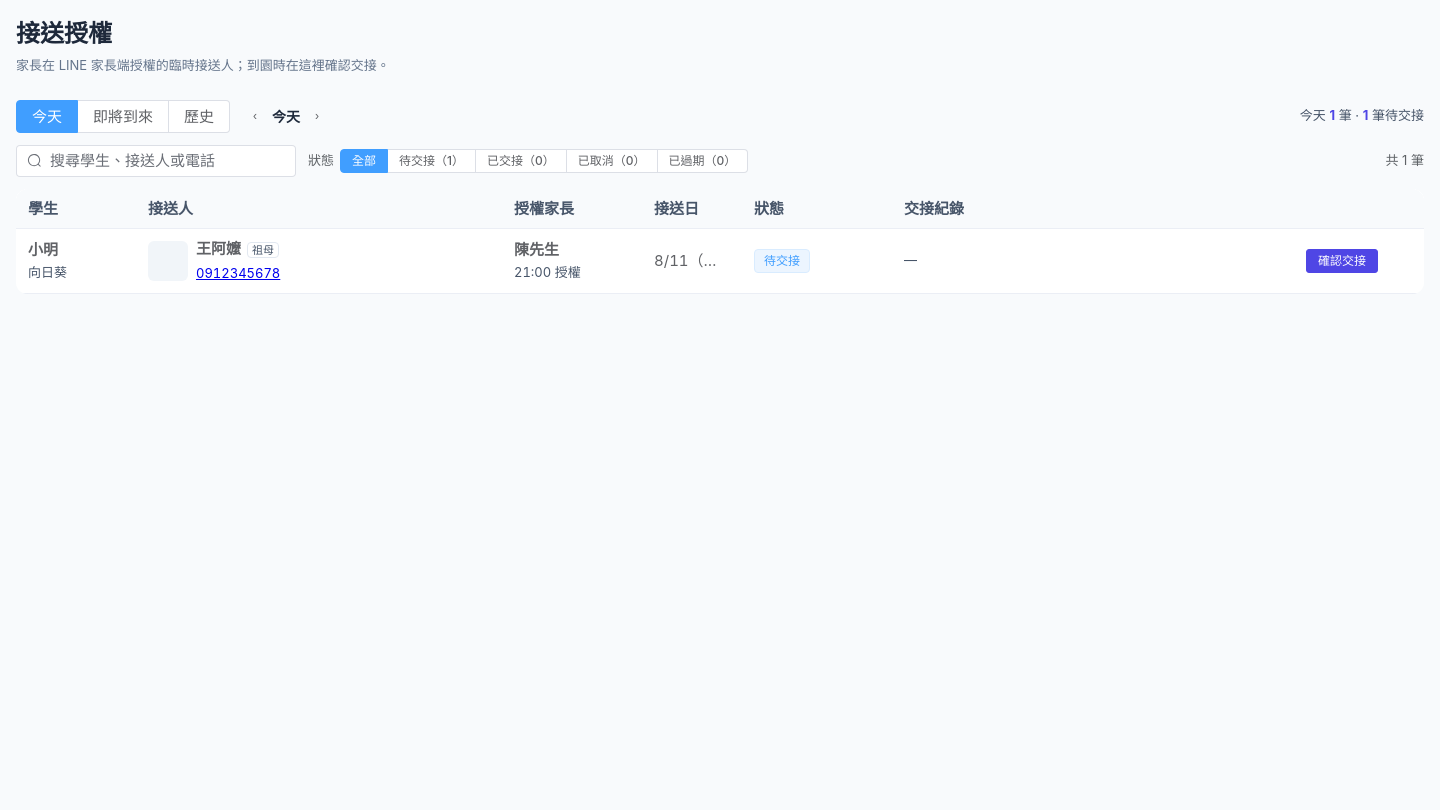
Test: PickupAuthorizationsView (admin) › 錯碼時顯示還可再試次數，不必等重新整理
Click the button "確認交接": (1342, 261) [1306, 249, 1378, 273]
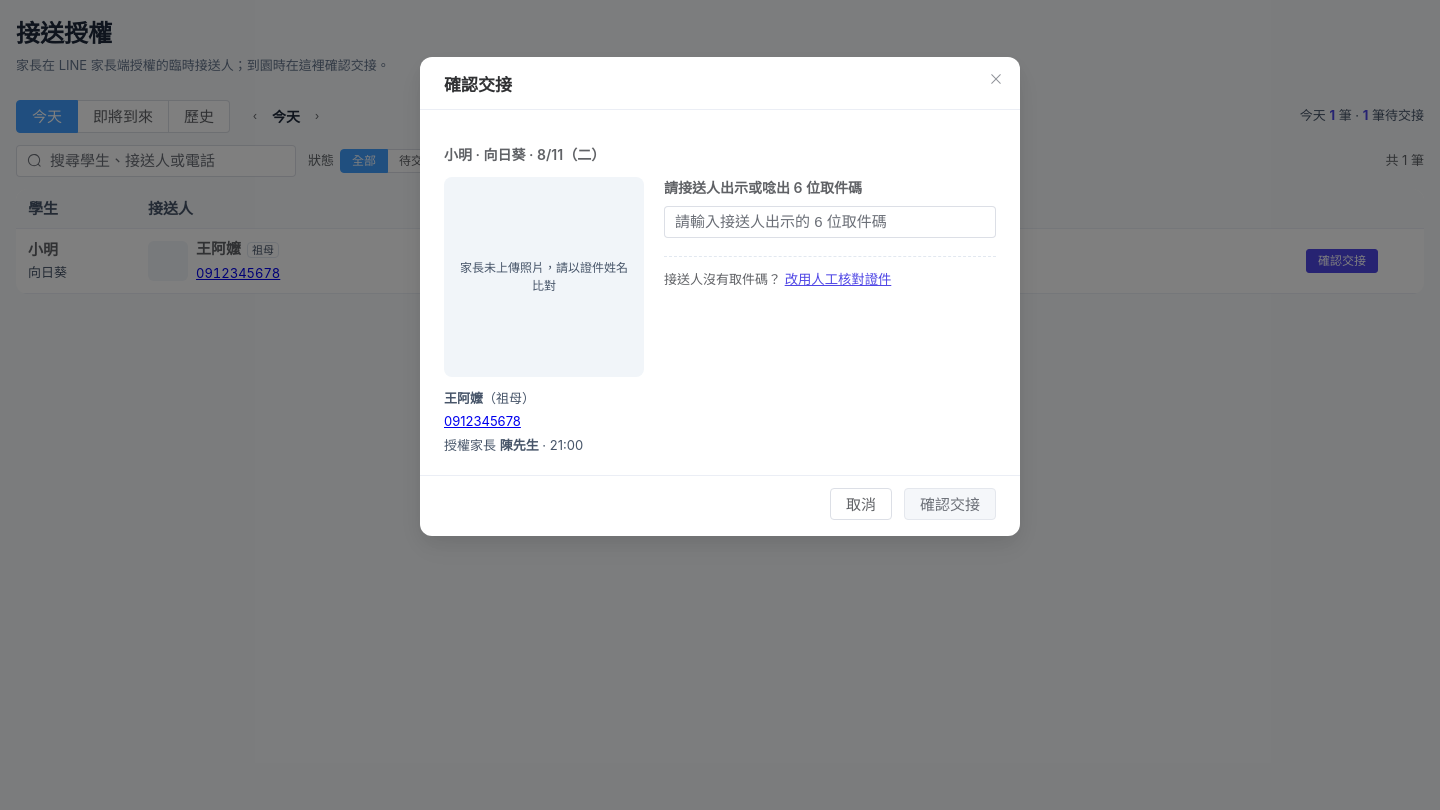
In the field with placeholder "請輸入接送人出示的 6 位取件碼": (830, 222) [675, 207, 985, 237], type "000000"
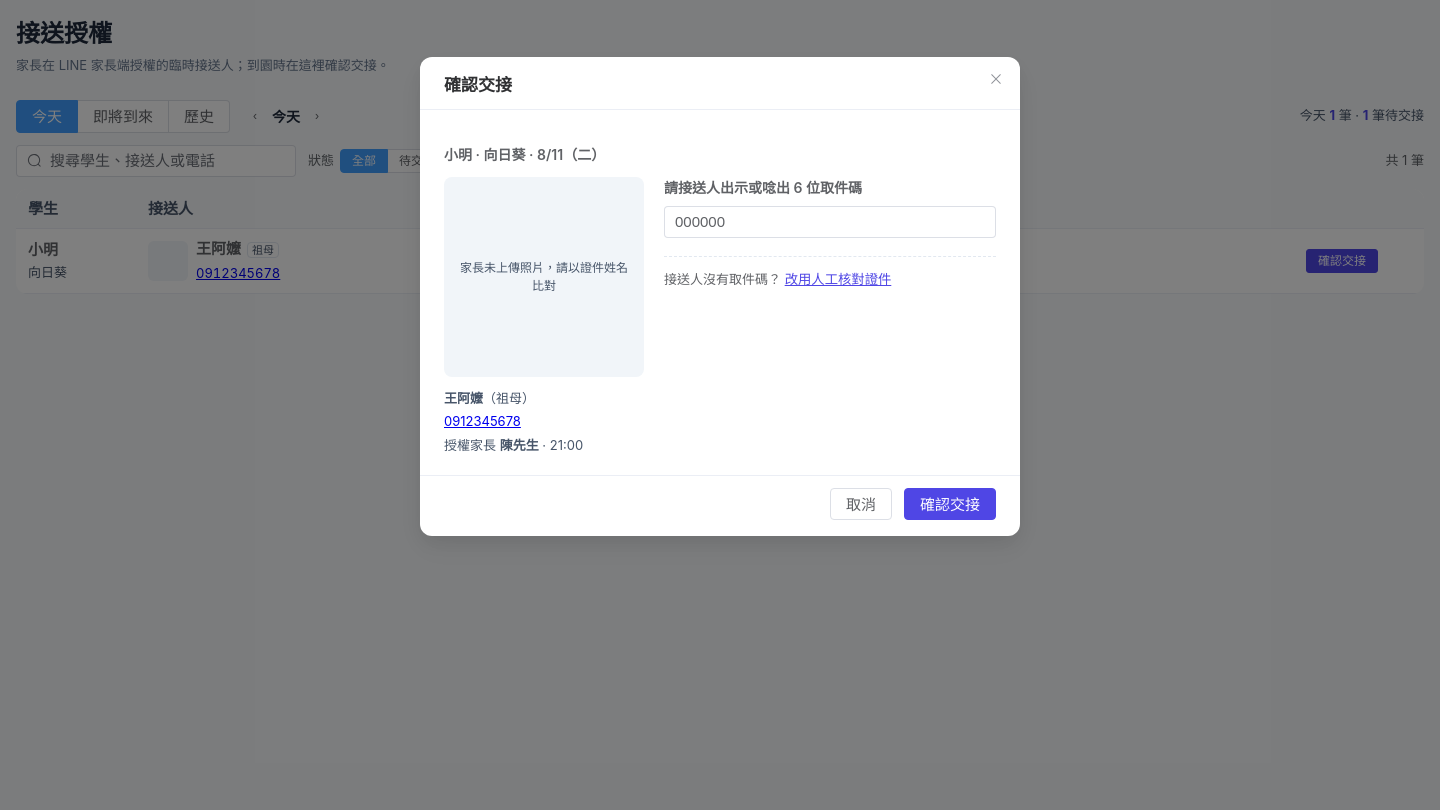
Click the button "確認交接": (950, 504) [904, 488, 996, 520]
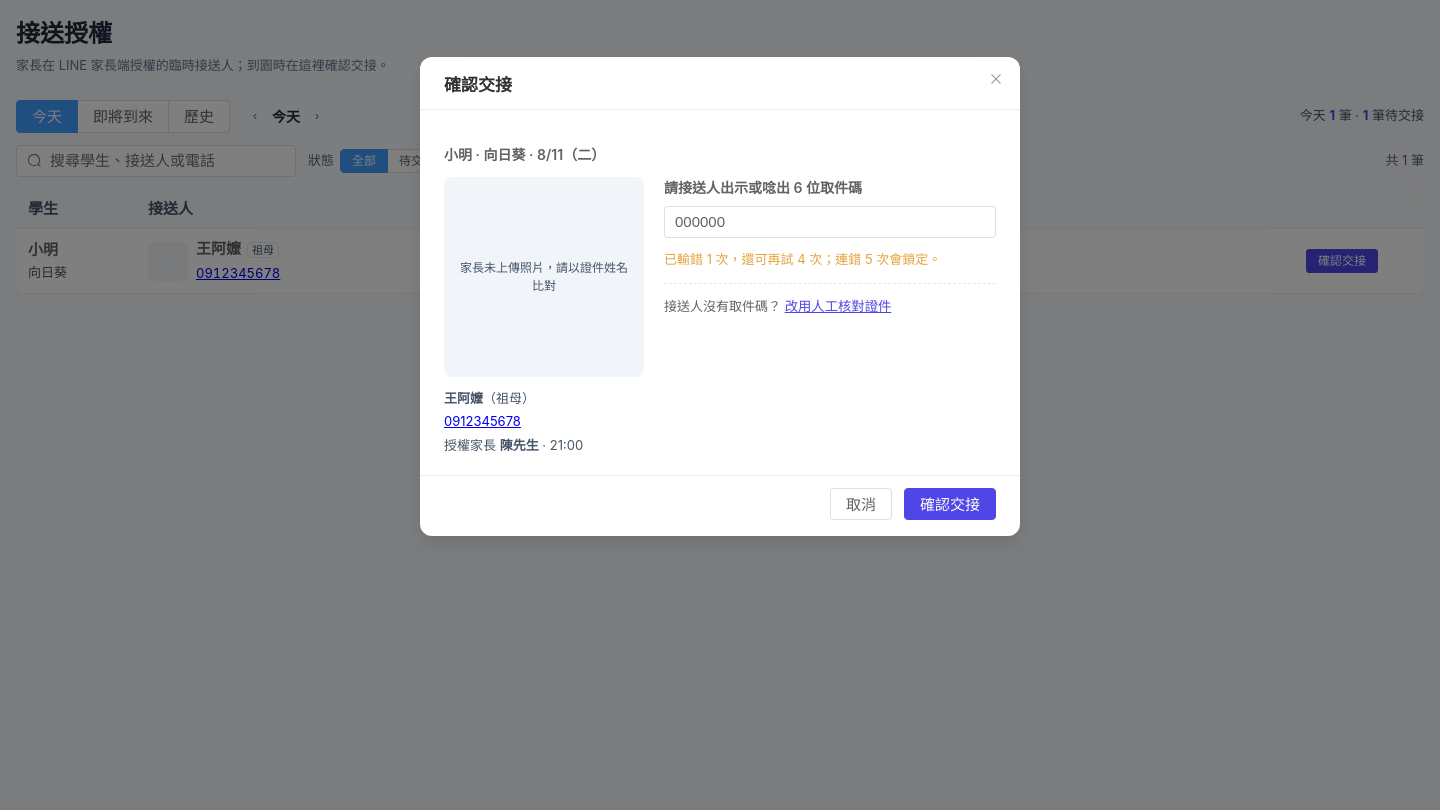
Now the text "還可再試 4 次" is shown, box [664, 251, 941, 267]
